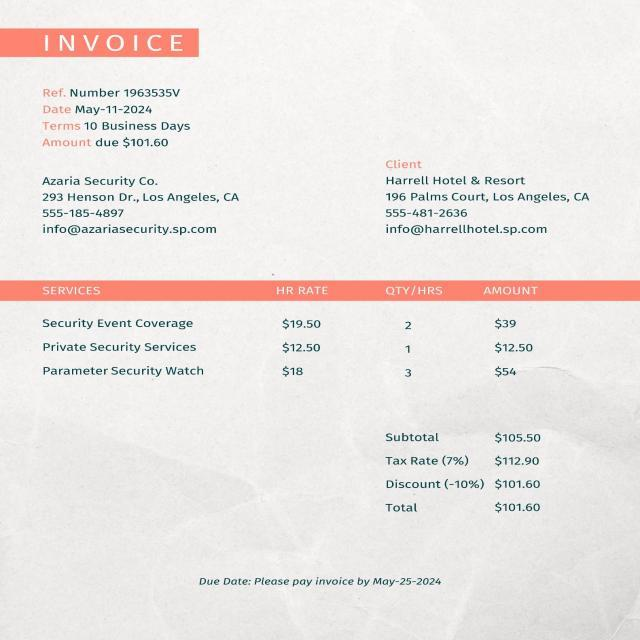ROI: (0, 280, 640, 392), (382, 158, 596, 236), (381, 428, 545, 516), (39, 176, 242, 240), (40, 85, 194, 154), (200, 576, 440, 594), (36, 30, 198, 56)
